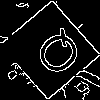Q: (24, 25, 87, 86)
